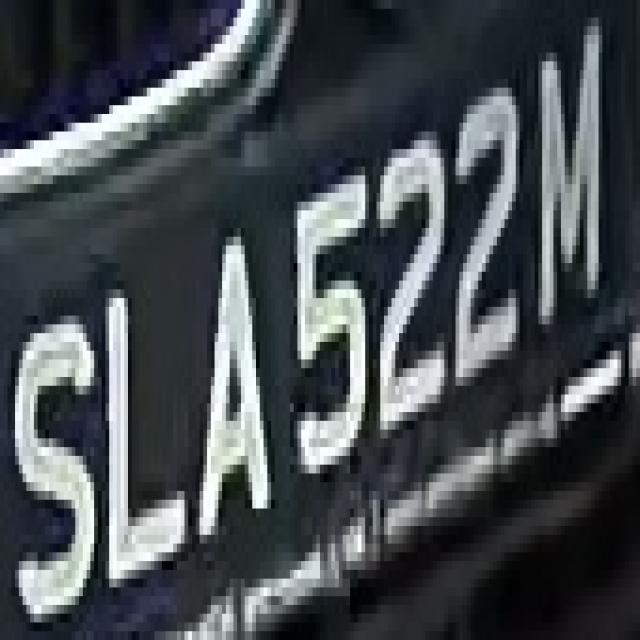2: (440, 79, 534, 403), (365, 123, 456, 447)
5: (282, 158, 369, 473)
A: (196, 184, 275, 561)
L: (90, 263, 192, 614)
M: (527, 18, 614, 333)
S: (8, 298, 102, 605)
